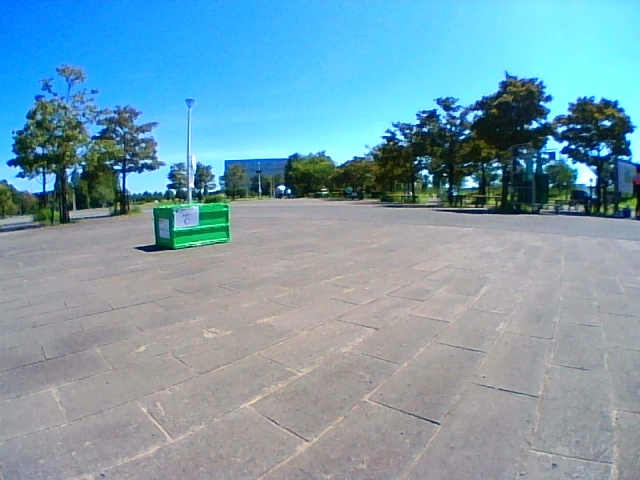green_box: (154, 203, 230, 248)
tag: (176, 209, 199, 227)
